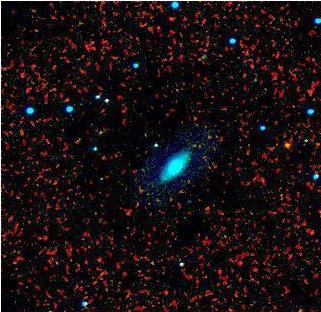star: (272, 128, 302, 158)
